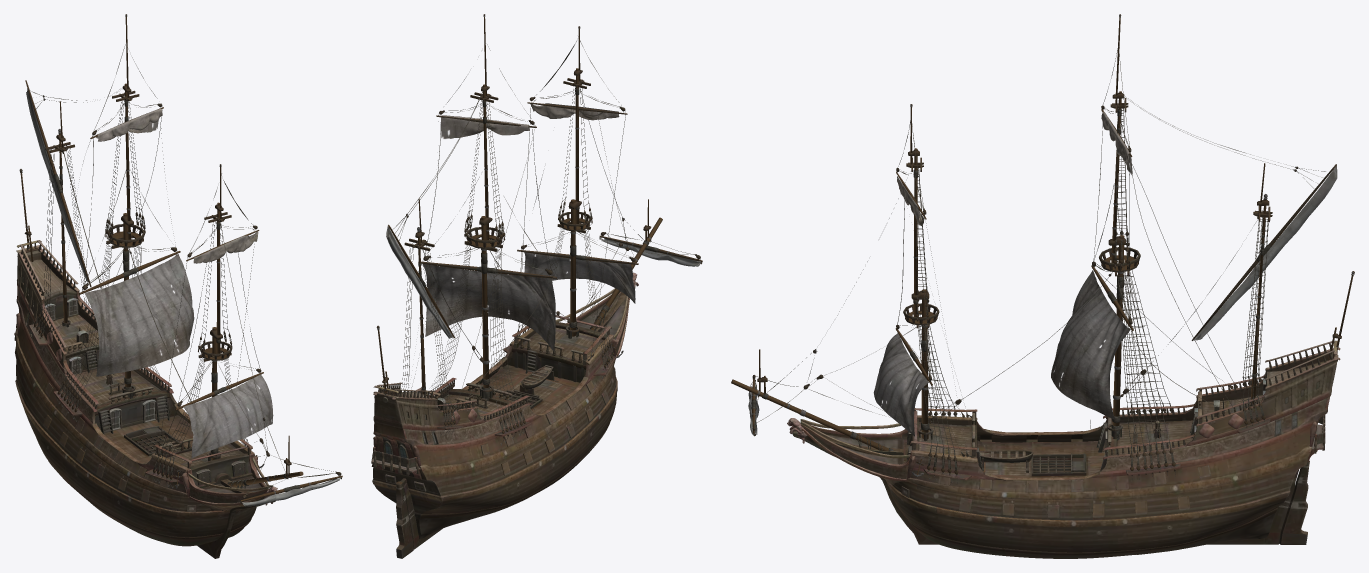
File: ship2.glb
3 renders of one model, left to right at view 1: azimuth 30°, elevation 25°; view 2: azimuth 150°, elevation 25°; view 3: azimuth 270°, elevation 25°, orthographic. The views are drawn at different scales.
Visible parts, largest first — view 1: dutch_ship_large_02_hull, dutch_ship_large_02_rigging, dutch_ship_large_02_sails; view 2: dutch_ship_large_02_hull, dutch_ship_large_02_rigging, dutch_ship_large_02_sails; view 3: dutch_ship_large_02_hull, dutch_ship_large_02_rigging, dutch_ship_large_02_sails.
Boxes of the visible parts, x1,y1,x2,y2 form: dutch_ship_large_02_hull: (14, 240, 277, 558); dutch_ship_large_02_rigging: (19, 14, 342, 506); dutch_ship_large_02_sails: (85, 108, 273, 458); dutch_ship_large_02_hull: (371, 272, 638, 558); dutch_ship_large_02_rigging: (376, 14, 702, 445); dutch_ship_large_02_sails: (422, 103, 635, 350); dutch_ship_large_02_hull: (787, 340, 1340, 558); dutch_ship_large_02_rigging: (731, 14, 1354, 483); dutch_ship_large_02_sails: (873, 112, 1132, 436).
Size of the model in its own units: 2.1 by 7.87 by 8.41.
Materials: 3 (3 with a texture image).
